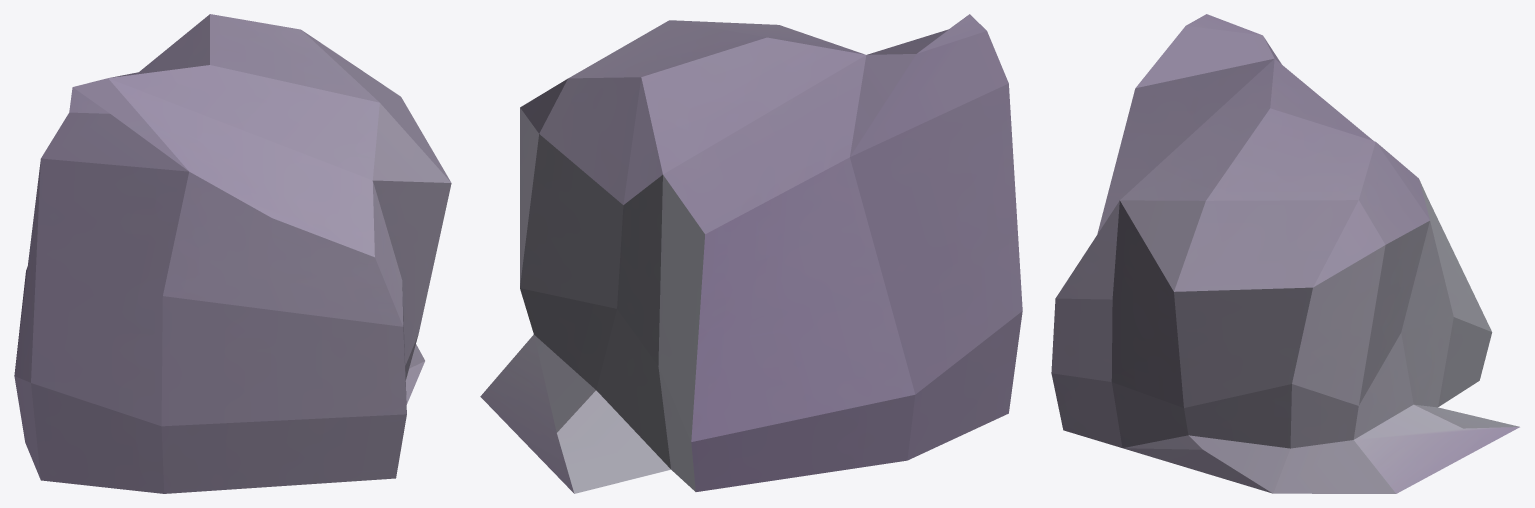
The model's file is Rock_Stones06.fbx.
3 renders of one model, left to right at view 1: azimuth 30°, elevation 25°; view 2: azimuth 150°, elevation 25°; view 3: azimuth 270°, elevation 25°, orthographic. The views are drawn at different scales.
Visible parts, largest first — view 1: Small Rock; view 2: Small Rock; view 3: Small Rock.
Boxes of the visible parts, left/top/right/bottom form: Small Rock: left=14, top=14, right=451, bottom=493; Small Rock: left=480, top=14, right=1022, bottom=493; Small Rock: left=1051, top=14, right=1519, bottom=493.
Size of the model in its own units: 37.89 by 32.83 by 41.54.
